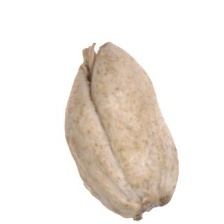L1: (77, 35, 108, 97), (130, 195, 174, 220)
L2: (65, 41, 180, 221)
